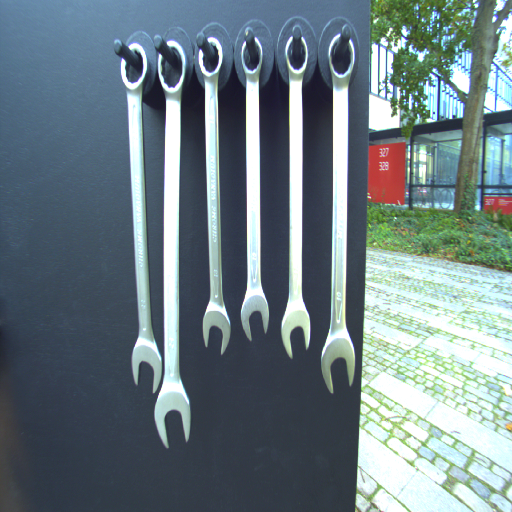bottom: (154, 379, 194, 450), (318, 329, 355, 394), (128, 332, 164, 398), (279, 302, 312, 359), (201, 298, 232, 358), (238, 287, 269, 342)
top: (156, 40, 187, 100), (325, 32, 355, 84), (118, 41, 148, 92), (195, 36, 228, 82), (283, 32, 312, 79), (239, 34, 265, 79)
